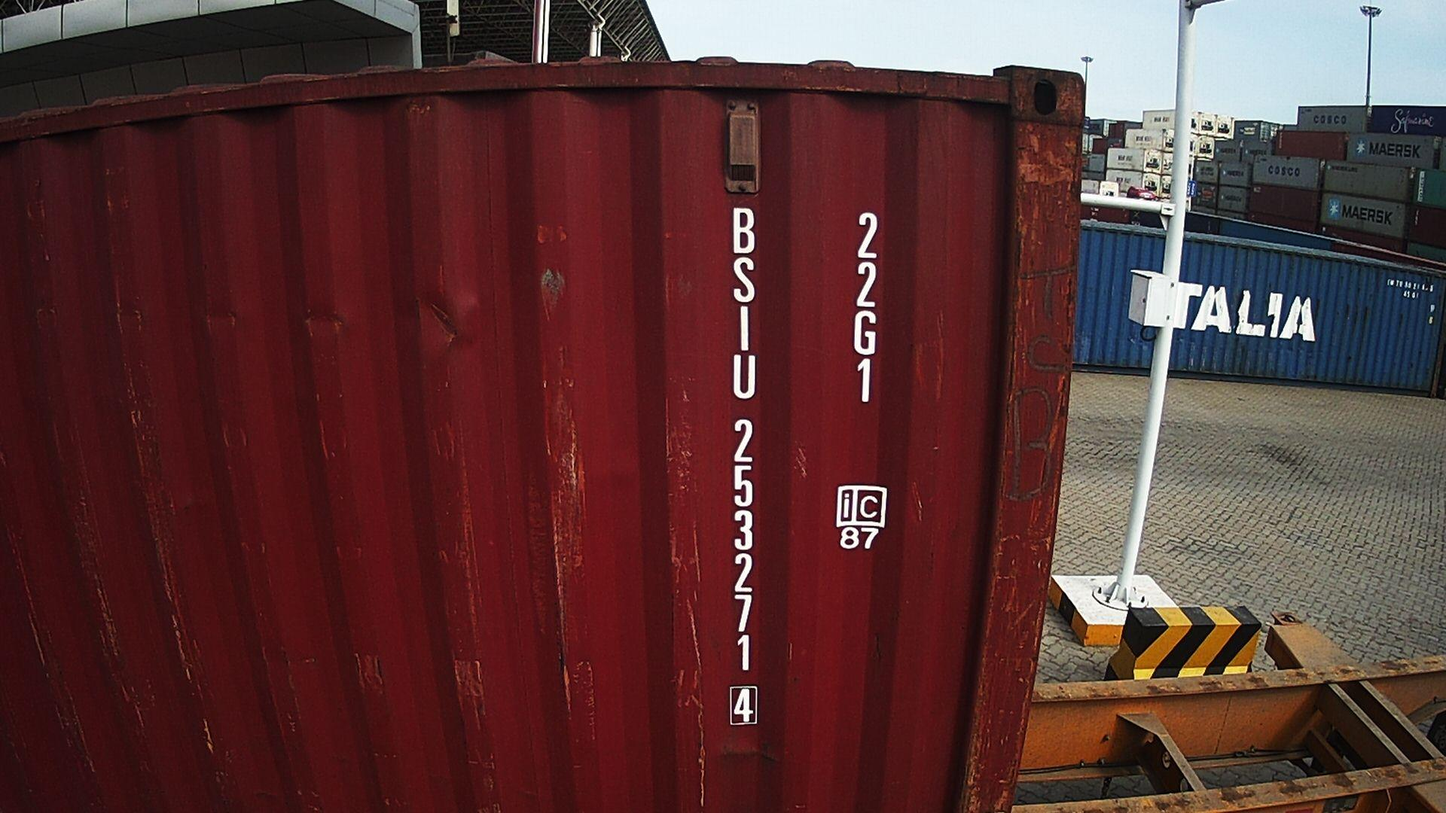container-numbers: (721, 200, 765, 729), (845, 208, 889, 411)
